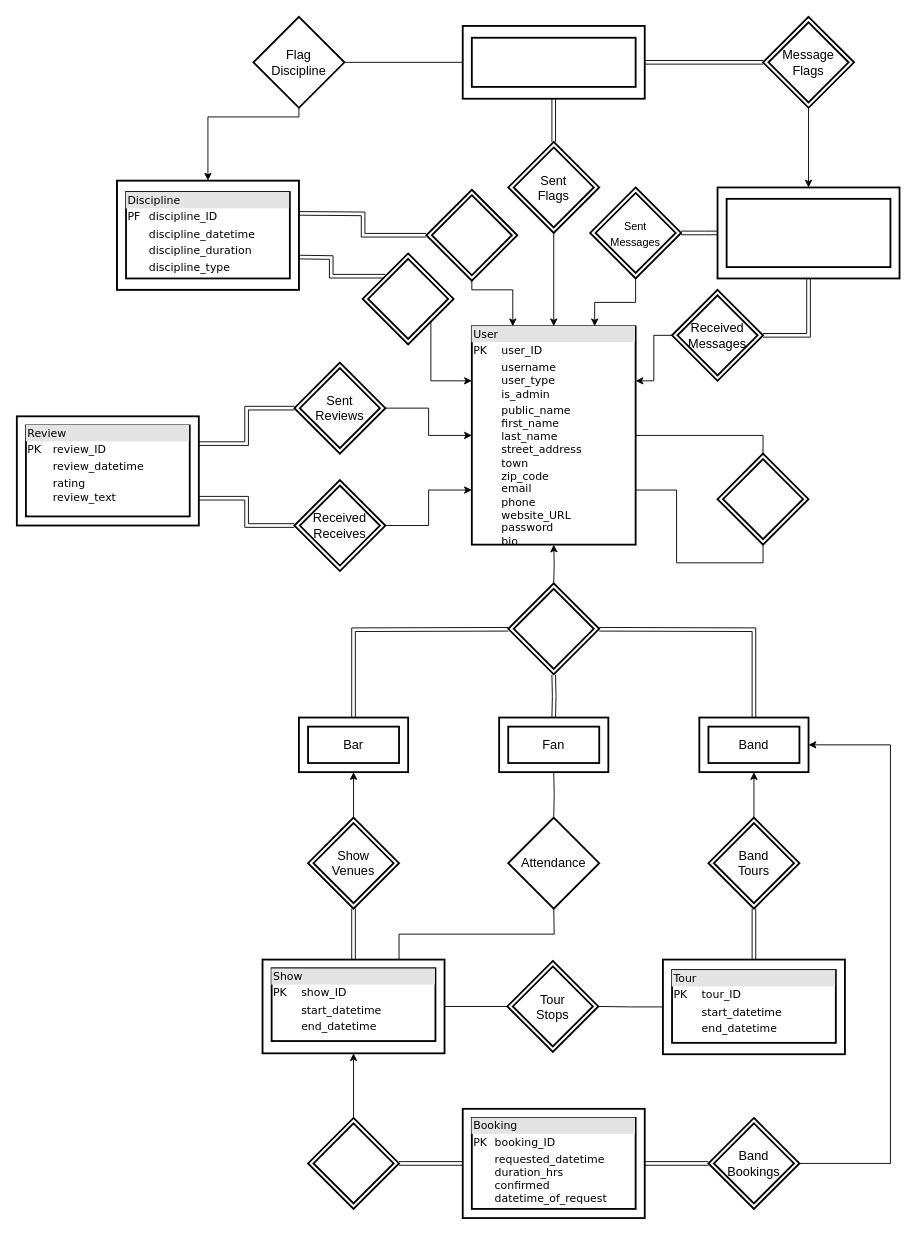
Some shapes in this 915 by 1234 pixel diagram are drawn without their labels. Here are the shapes that lost their labels. From the top down, the box of each, then its label:
(470, 36, 636, 87): Flag PK flag_ID flag_reason
(425, 188, 518, 281): Received Disciplines
(725, 197, 891, 268): Message PK message_ID message_text message_datetime
(361, 252, 454, 345): Administered Disciplines
(716, 452, 809, 545): Following
(507, 582, 600, 675): Is a
(307, 1117, 399, 1209): Show Bookings
